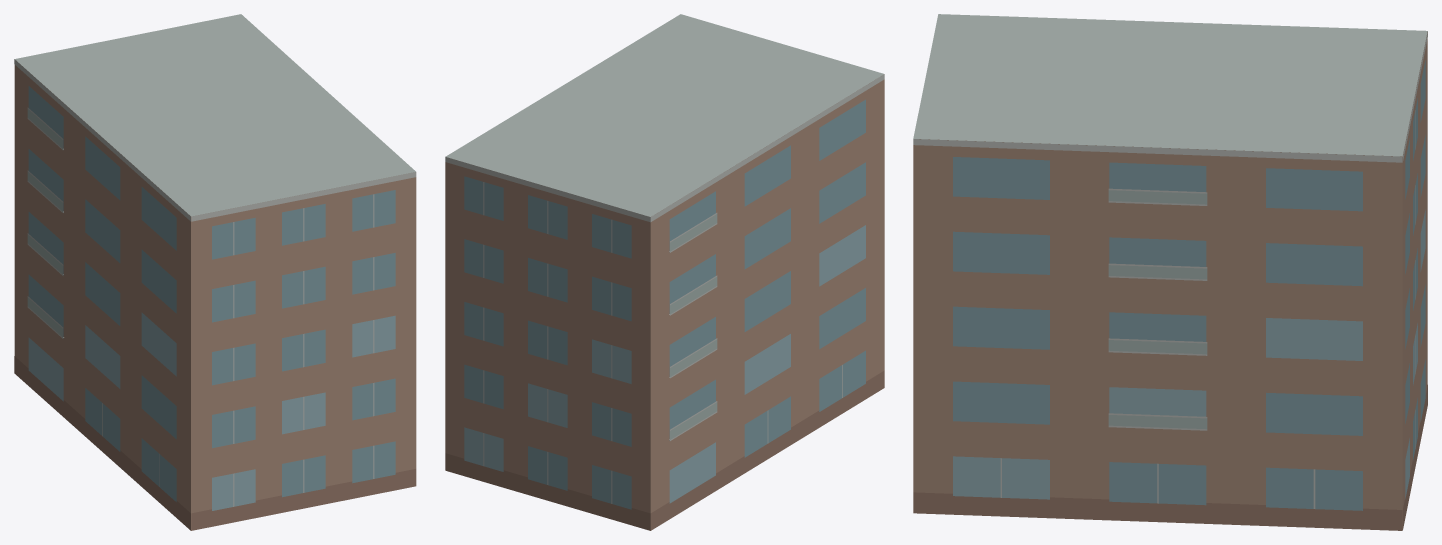
Rendered from survey-upis-32525682.glb.
The picture shows the model from 3 angles, left to right: view 1: azimuth 30°, elevation 25°; view 2: azimuth 150°, elevation 25°; view 3: azimuth 270°, elevation 25°; orthographic projection. The views are drawn at different scales.
Visible parts, largest first — view 1: survey-upis-32525682.tmp; view 2: survey-upis-32525682.tmp; view 3: survey-upis-32525682.tmp.
Boxes of the visible parts, x1,y1,x2,y2 form: survey-upis-32525682.tmp: (14, 14, 416, 530); survey-upis-32525682.tmp: (445, 14, 884, 530); survey-upis-32525682.tmp: (913, 14, 1427, 530).
Bounding box in the file's own units: 11.92 × 14.6 × 18.19.
